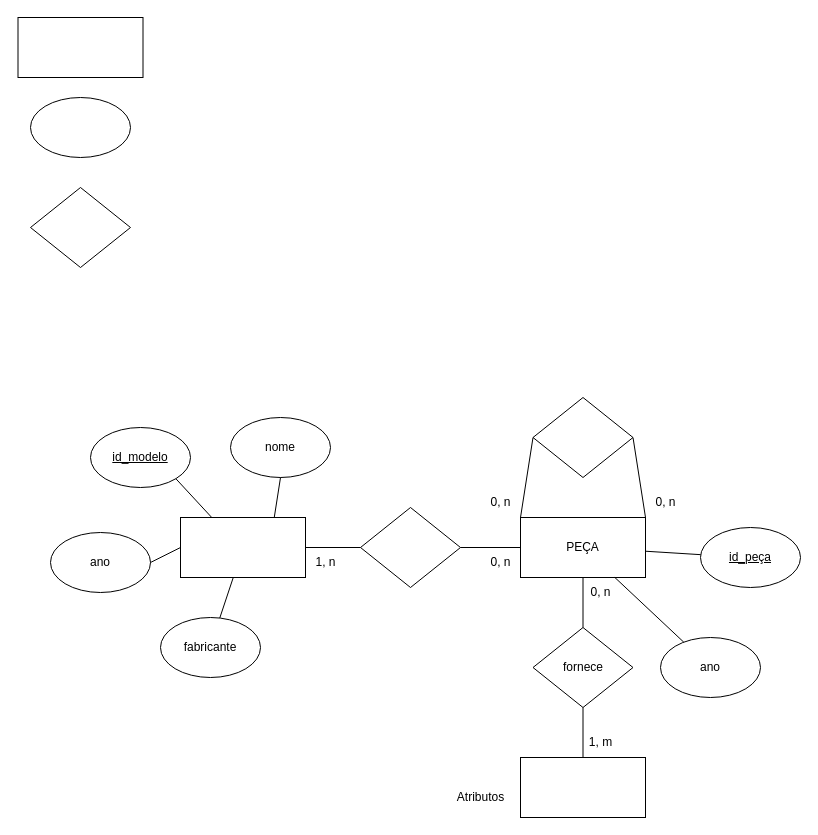
The diagram is 818 pixels wide and 835 high, and some of its shapes have lost their labels. The centre of each missing label's shape, as x and y in pixels:
FORNECEDOR: the point at 583,787
MODELO_CARRO: the point at 243,547
suporta: the point at 582,437
tem: the point at 410,547
